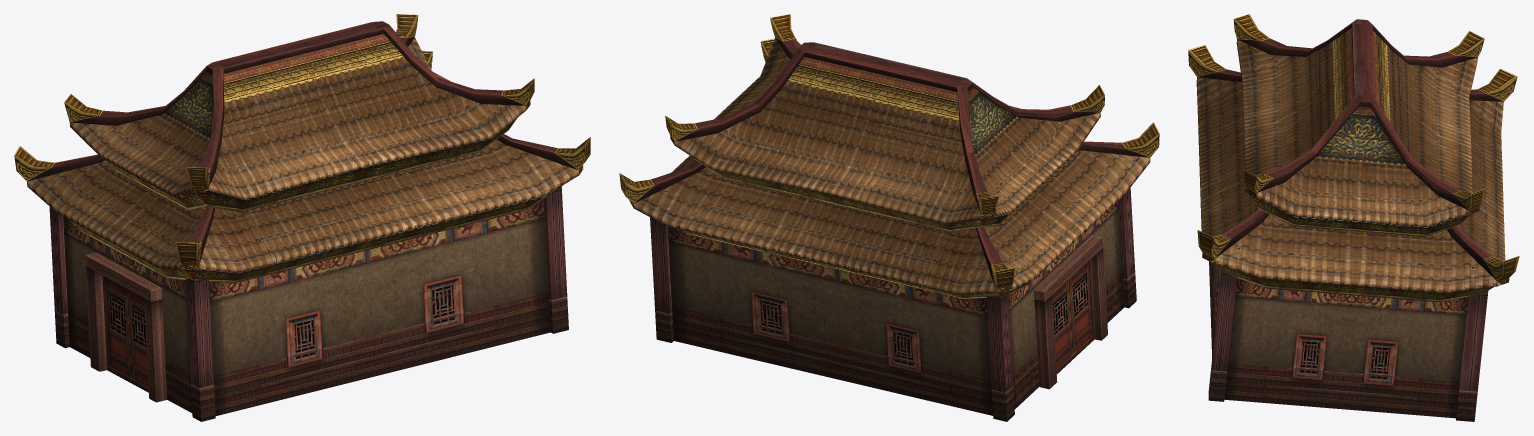
File: topbuilding.fbx
3 views of the same model, side by side, from view 1: azimuth 30°, elevation 25°; view 2: azimuth 150°, elevation 25°; view 3: azimuth 270°, elevation 25° (orthographic). The views are drawn at different scales.
Visible parts, largest first — view 1: Object01, Object02; view 2: Object01, Object02; view 3: Object01, Object02.
Part boxes in pixels (box(x1,y1,x2,y2)): Object01: box(14, 14, 590, 282); Object02: box(49, 187, 568, 421); Object01: box(619, 14, 1159, 298); Object02: box(650, 160, 1136, 421); Object01: box(1188, 14, 1519, 301); Object02: box(1208, 248, 1488, 421).
Size of the model in its own units: 11.62 by 8.38 by 7.74.
2 materials, 2 textured.
